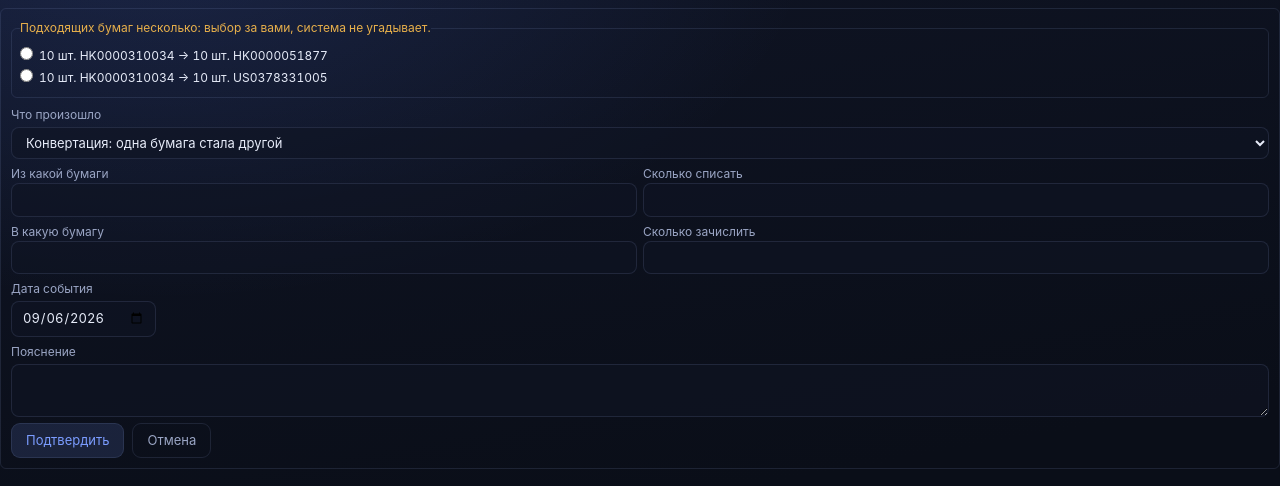
Test: DecisionPanel › при нескольких гипотезах показывает обе и не выбирает за владельца
Expected: the text "10 шт. HK0000310034 → 10 шт. HK0000051877" is shown, [20,47,328,63]
Expected: the text "10 шт. HK0000310034 → 10 шт. US0378331005" is shown, [20,69,328,85]
Click the radio button labelled "10 шт. HK0000310034 → 10 шт. US0378331005" at (26, 76), box [20,69,33,82]
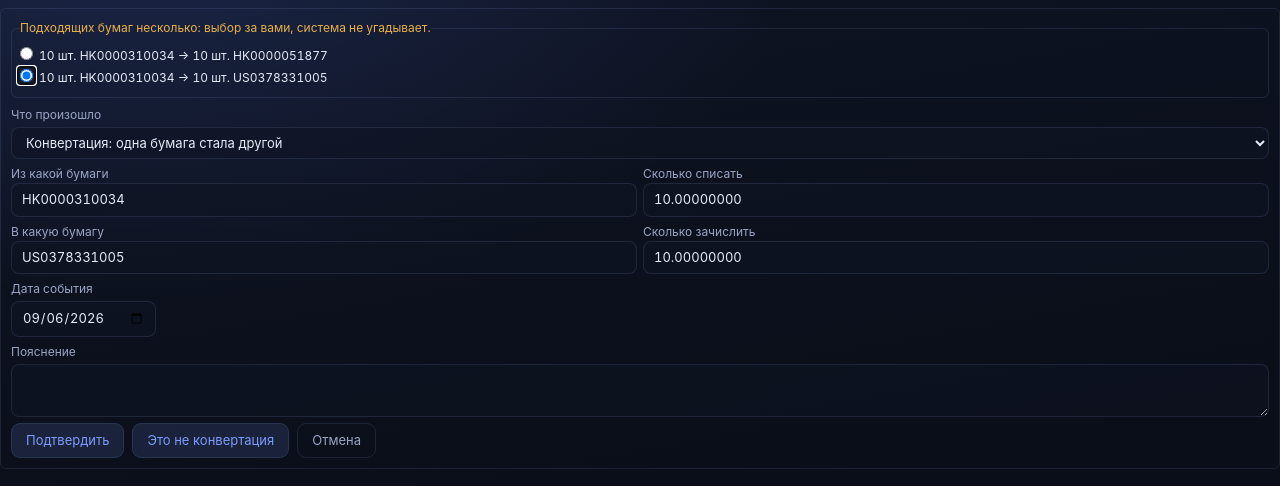
Result: the field labelled "Из какой бумаги" holds "HK0000310034" at [11,183,637,216]
Result: the field labelled "В какую бумагу" holds "US0378331005" at [11,240,637,274]
